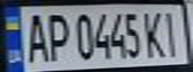0: (72, 9, 93, 61)
4: (90, 9, 112, 60), (109, 8, 127, 60)
5: (124, 8, 145, 59)
A: (21, 9, 51, 63)
I: (157, 7, 184, 57)
K: (142, 7, 166, 58)
P: (42, 9, 72, 63)
